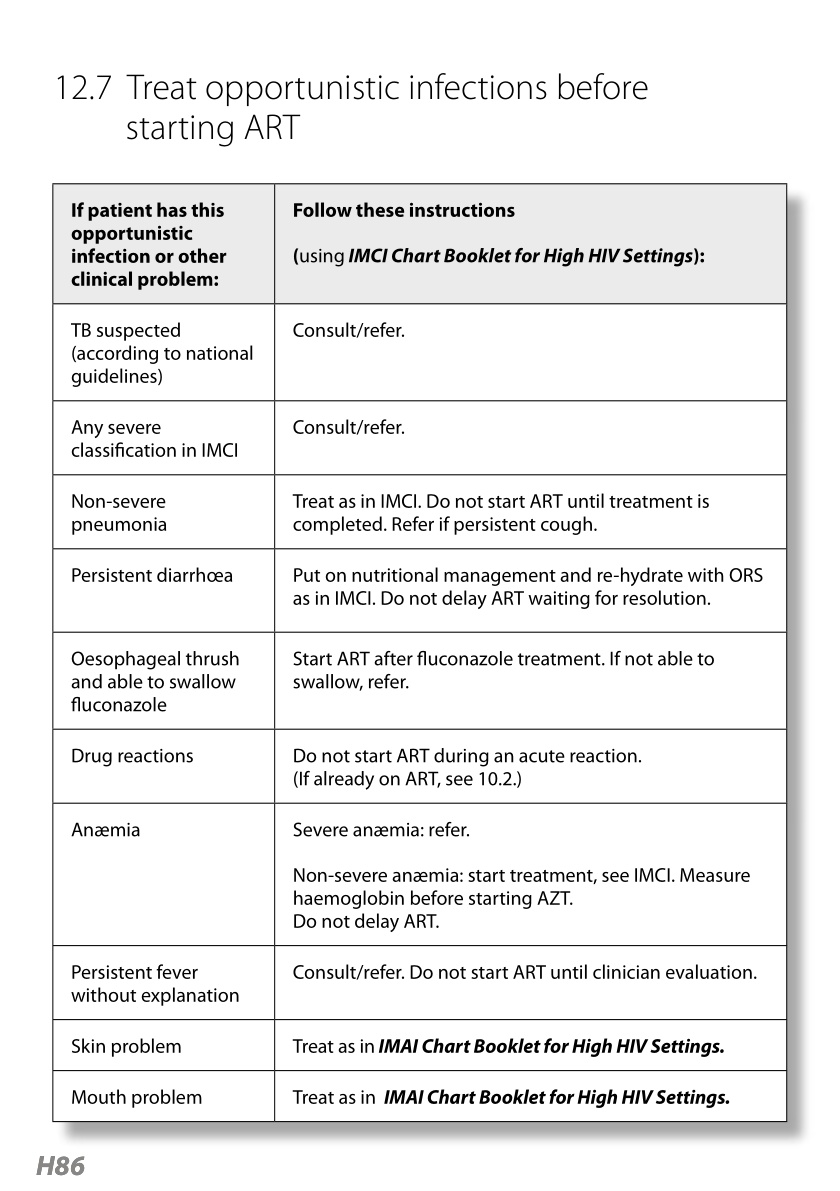full_lined: (50, 182, 788, 1124)
